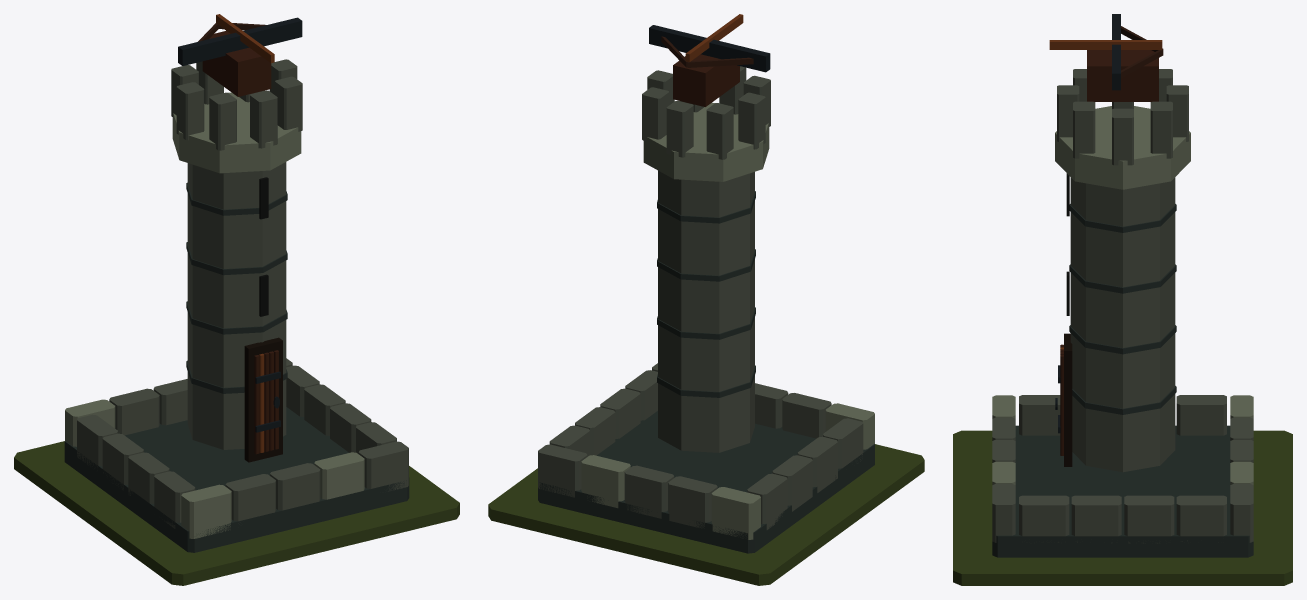
File: ballista_t1.glb
3 views of the same model, side by side, from view 1: azimuth 30°, elevation 25°; view 2: azimuth 150°, elevation 25°; view 3: azimuth 270°, elevation 25° (orthographic). The views are drawn at different scales.
Parts seen in each view (by area): view 1: MMR | ballista | T01 Architecture.001, MMR | ballista | Tier 01 Ground.001; view 2: MMR | ballista | T01 Architecture.001, MMR | ballista | Tier 01 Ground.001; view 3: MMR | ballista | T01 Architecture.001, MMR | ballista | Tier 01 Ground.001.
Part boxes in pixels (x1,y1,x2,y2): MMR | ballista | T01 Architecture.001: [64, 14, 409, 552]; MMR | ballista | Tier 01 Ground.001: [14, 441, 459, 585]; MMR | ballista | T01 Architecture.001: [538, 14, 874, 553]; MMR | ballista | Tier 01 Ground.001: [488, 444, 924, 585]; MMR | ballista | T01 Architecture.001: [992, 14, 1253, 557]; MMR | ballista | Tier 01 Ground.001: [953, 430, 1292, 585].
Size of the model in its own units: 1.3 by 2 by 1.3.
1 material, 1 textured.
